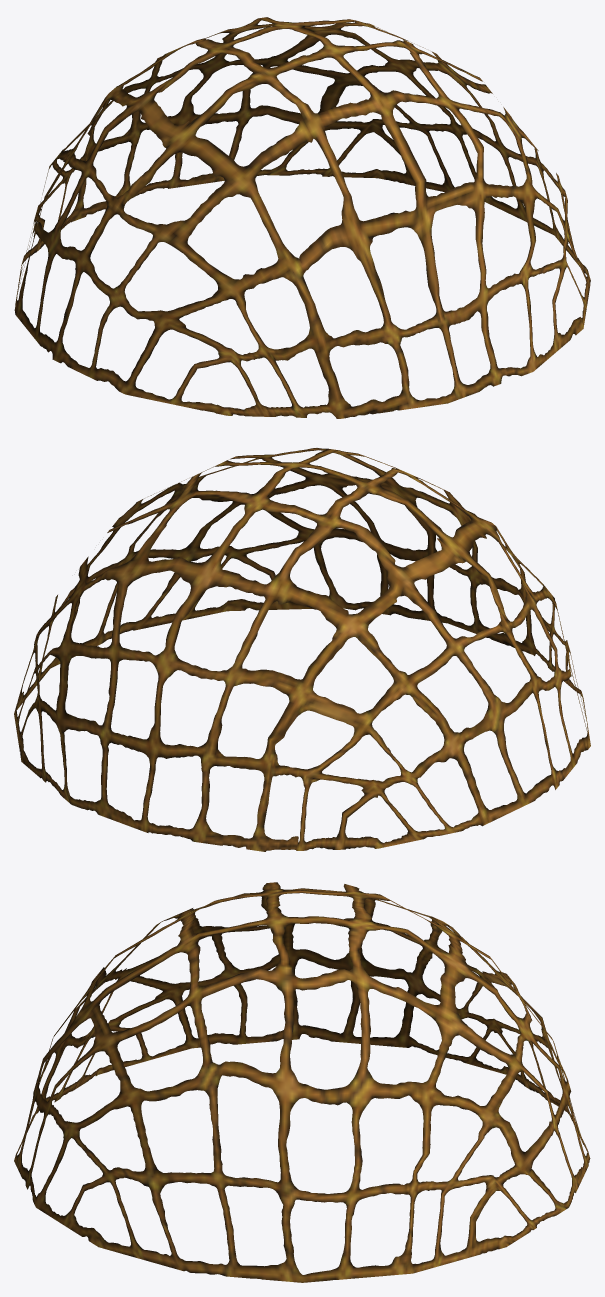
File: yuanwang.FBX
3 renders of one model, top to bottom at view 1: azimuth 30°, elevation 25°; view 2: azimuth 150°, elevation 25°; view 3: azimuth 270°, elevation 25°, orthographic.
Visible parts, largest first — view 1: banqiuti; view 2: banqiuti; view 3: banqiuti.
Part boxes in pixels (x1,y1,x2,y2): banqiuti: (14, 17, 590, 418); banqiuti: (14, 448, 590, 851); banqiuti: (14, 882, 590, 1282).
Bounding box in the file's own units: 1.46 × 0.7108 × 1.46.
